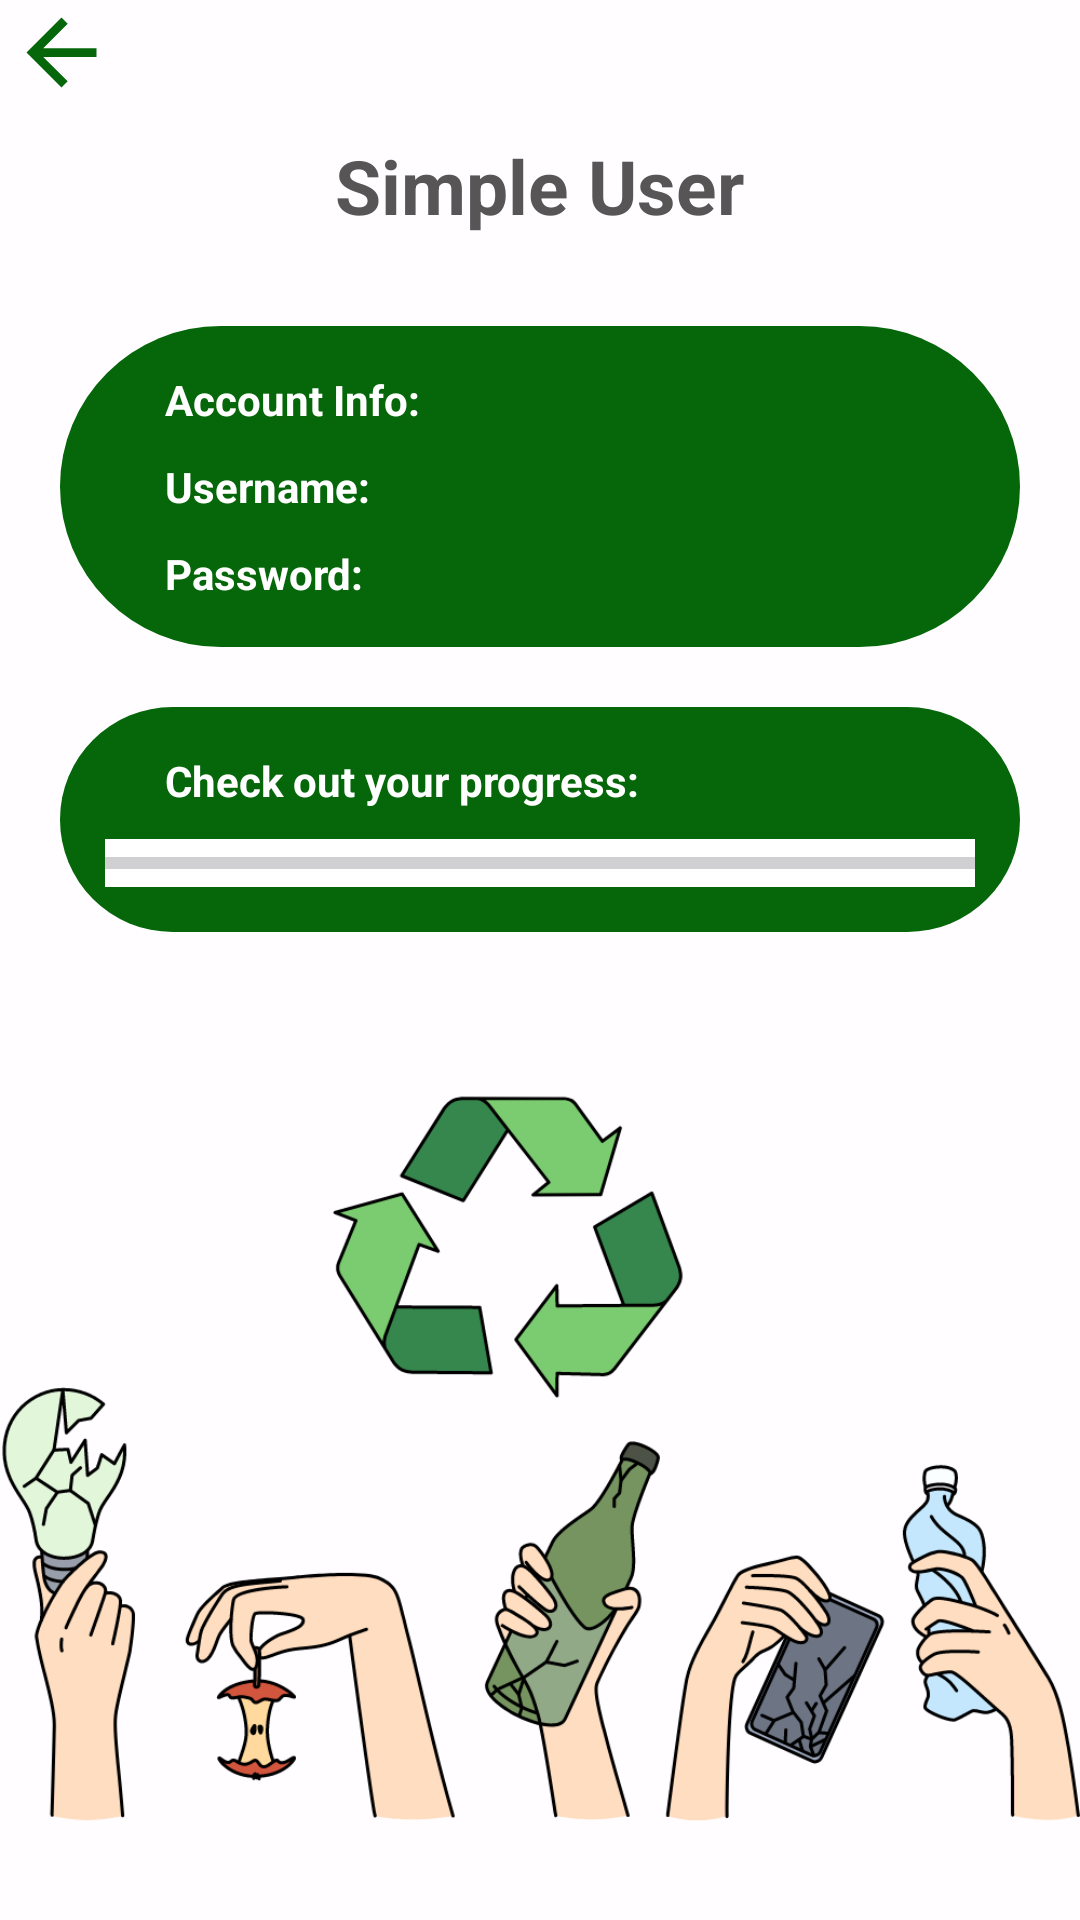

Point at icon controls on the screen. Image size 1080px×1920px, points as (x,y).
Back: (61,52)
